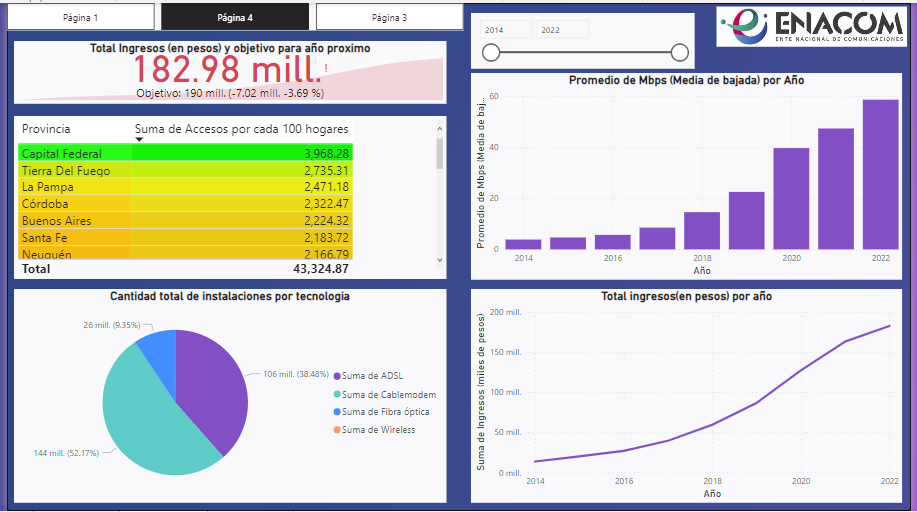

This screenshot's page, from the dashboard's own definition file:
{"tool":"powerbi","page":{"name":"Página 4","canvas":[1280,720],"ordinal":1},"visuals":[{"type":"columnChart","fields":{"Category":["accesos_velocidad_data.Año"],"Y":["Avg(accesos_velocidad_data.Mbps (Media de bajada))"]},"box":[657.1,98.6,611.4,292.9],"z":0},{"type":"pieChart","title":"Cantidad total de instalaciones por tecnologia","fields":{"Y":["Sum(accesos_tecnologia_data.ADSL)","Sum(accesos_tecnologia_data.Cablemodem)","Sum(accesos_tecnologia_data.Fibra óptica)","Sum(accesos_tecnologia_data.Wireless)"]},"box":[10,405.7,612.9,302.9],"z":1000},{"type":"lineChart","title":"Total ingresos(en pesos) por año","fields":{"Y":["Sum(ingresos_data.Ingresos (miles de pesos))"],"Category":["ingresos_data.Año"]},"box":[657.1,405.7,611.4,302.9],"z":2000},{"type":"slicer","fields":{"Values":["ingresos_data.Año"]},"box":[657.1,14.3,317.1,78.6],"z":3000},{"type":"kpi","title":"Total Ingresos (en pesos) y objetivo para año proximo","fields":{"TrendLine":["ingresos_data.Año"],"Indicator":["Sum(ingresos_data.Ingresos (miles de pesos))"],"Goal":["ingresos_data.kpi"]},"box":[10,54.3,612.9,88.6],"z":4000},{"type":"image","box":[1000,0,280,67.1],"z":5000},{"type":"pageNavigator","box":[0,0,647.1,38.6],"z":6000},{"type":"tableEx","fields":{"Values":["penetracion_data.Provincia","Sum(penetracion_data.Accesos por cada 100 hogares)"]},"box":[10,160,612.9,231.4],"z":7000}]}

Visuals, with their boxes in screenshot pixels (x1, y1, x2, y2):
columnChart - accesos_velocidad_data.Año x Avg(accesos_velocidad_data.Mbps (Media de bajada)): crop(467, 71, 895, 276)
"Cantidad total de instalaciones por tecnologia" pieChart: crop(14, 286, 443, 498)
"Total ingresos(en pesos) por año" lineChart: crop(467, 286, 895, 498)
slicer - ingresos_data.Año: crop(467, 12, 689, 67)
"Total Ingresos (en pesos) y objetivo para año proximo" kpi: crop(14, 40, 443, 102)
image: crop(707, 2, 903, 49)
pageNavigator: crop(7, 2, 460, 29)
tableEx - penetracion_data.Provincia x Sum(penetracion_data.Accesos por cada 100 hogares): crop(14, 114, 443, 276)
